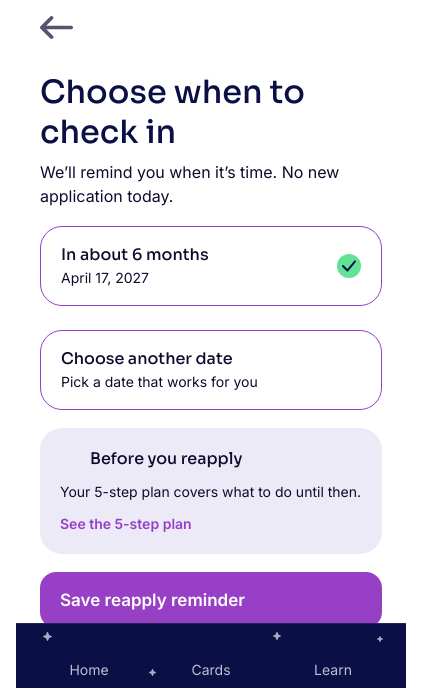
Test: ReminderSetup › says that a sent reminder cannot change (409) and stays on this screen
Click the button "Save reapply reminder" at (211, 600), box [40, 572, 382, 628]
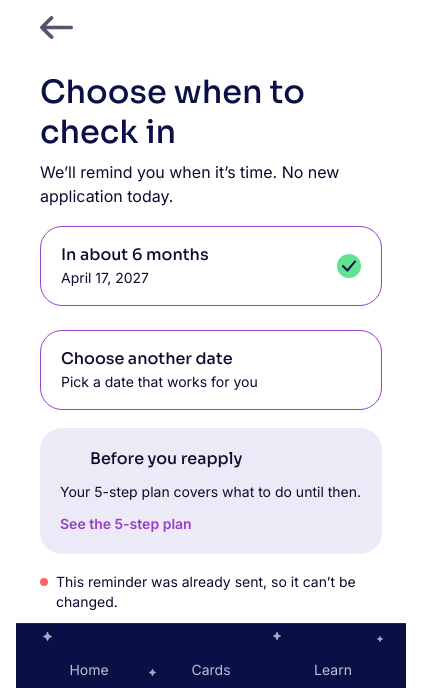
Expected: the message reads "This reminder was already sent, so it can’t be changed.", [56, 573, 356, 610]
